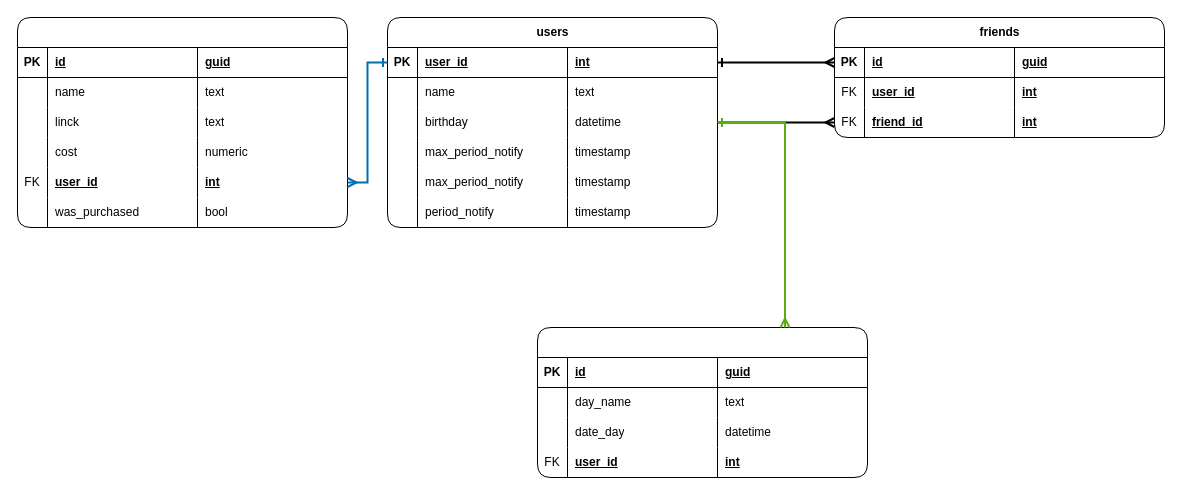
Image size: 1182x495. Some labels were removed from this diagram. The box of each missing label's shape, as (x1, y1, x2, y2) in pixels:
best_deys: (536, 326, 868, 478)
gifts: (16, 16, 348, 228)
